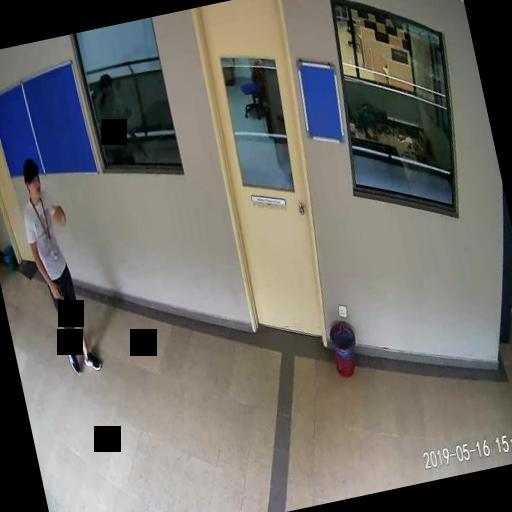Handgun: (48, 279, 68, 315)
